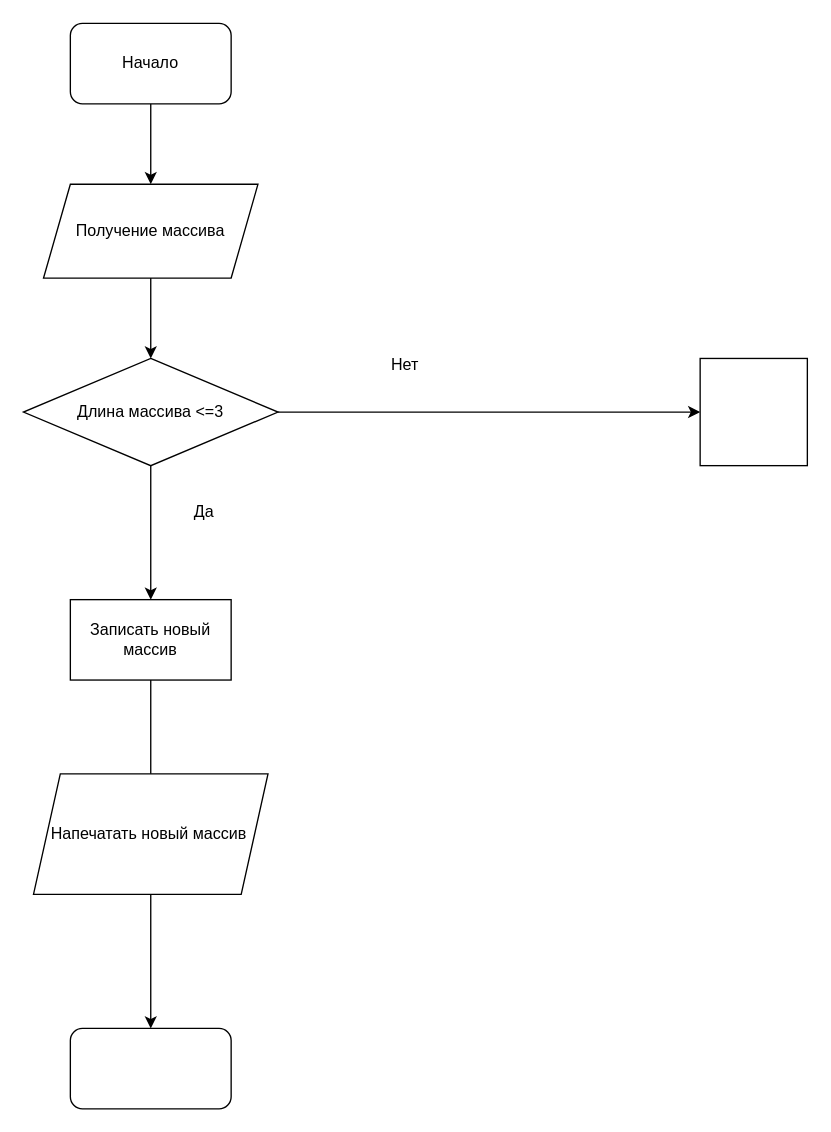
Image size: 831x1132. Some labels were removed from this diagram. The centre of each missing label's shape, as x and y in pixels:
"Конец" goes at point (150, 1068).
"Отсеять массив" goes at point (753, 411).
